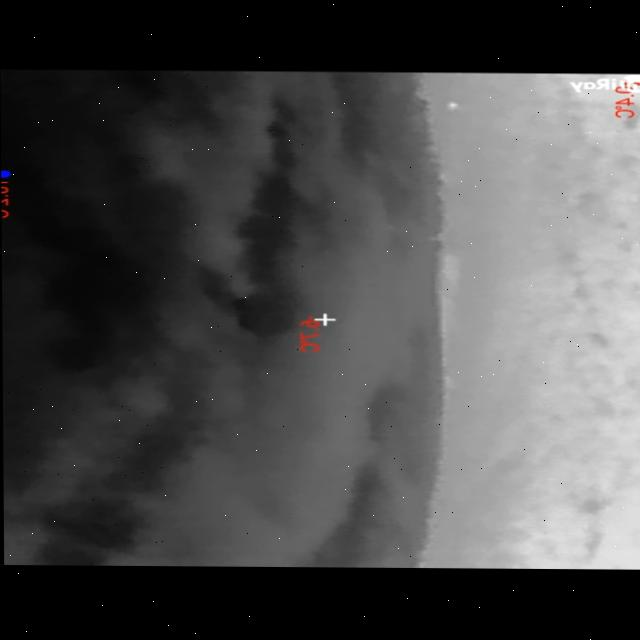drone: (442, 99, 461, 111)
